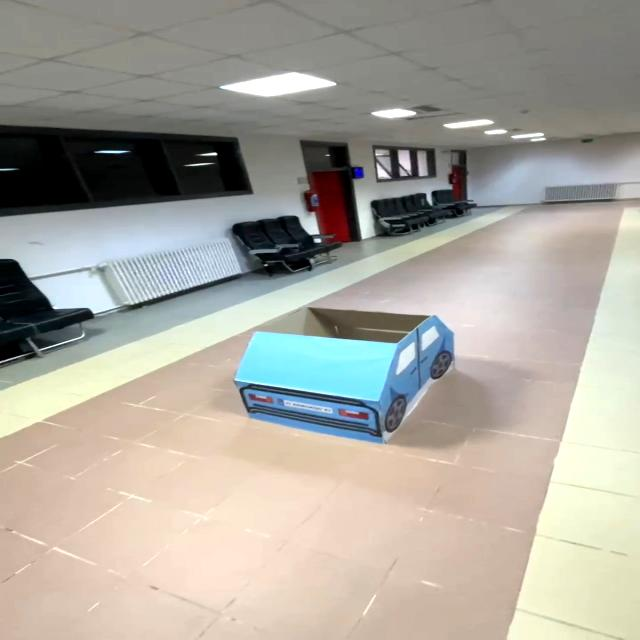blue_car: (213, 299, 468, 448)
